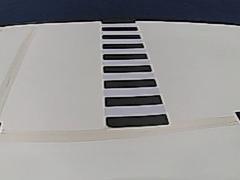CrossWalk: (96, 15, 168, 136)
